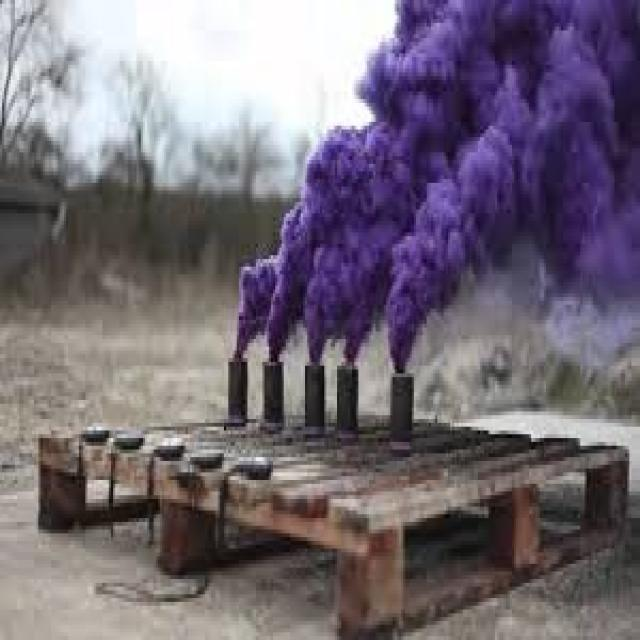Smoke: (233, 0, 639, 374)
